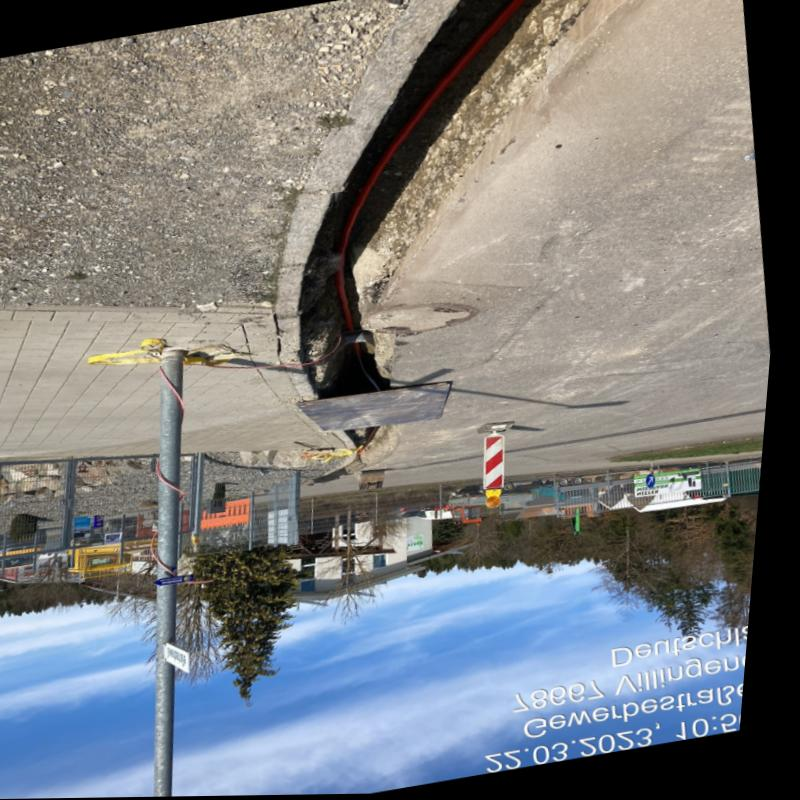Orang-Speednetrohrchen: (342, 0, 523, 333)
